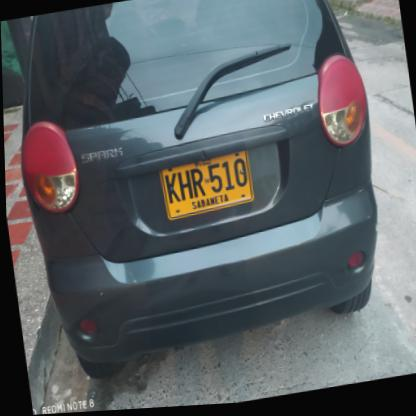placa: (152, 149, 258, 226)
